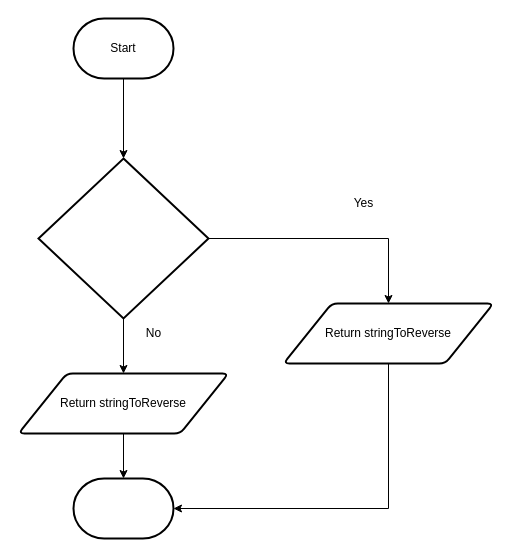
This 511x556 diagram has some shape labels left out. The shapes that lost their labels are listed below. From the top down, each one's centre as x and y in pixels, then its label:
At [123,238]: "If (stringToReverse === ``)".
At [123,508]: "End".
